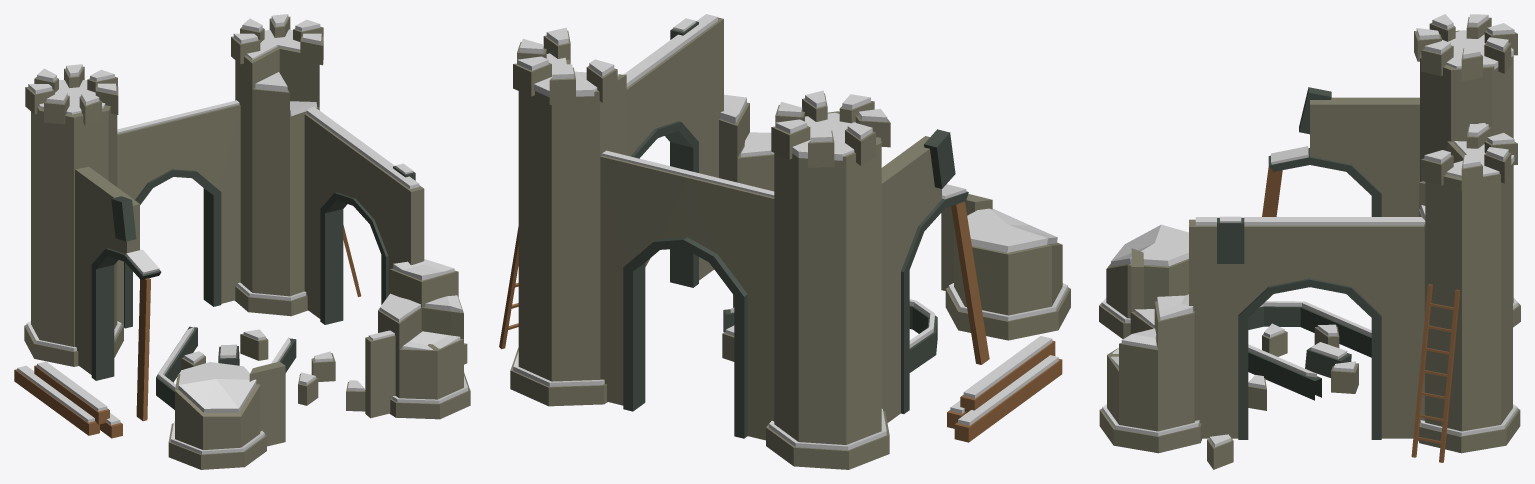
The model's file is Castle_build_snow_mat.fbx.
The picture shows the model from 3 angles, left to right: view 1: azimuth 30°, elevation 25°; view 2: azimuth 150°, elevation 25°; view 3: azimuth 270°, elevation 25°; orthographic projection. The views are drawn at different scales.
Visible parts, largest first — view 1: Castle_build_snow_mat; view 2: Castle_build_snow_mat; view 3: Castle_build_snow_mat.
Boxes of the visible parts, bbox=[...] form: Castle_build_snow_mat: bbox=[14, 14, 470, 469]; Castle_build_snow_mat: bbox=[499, 14, 1070, 469]; Castle_build_snow_mat: bbox=[1099, 14, 1520, 469].
Bounding box in the file's own units: 5.64 × 3.95 × 5.19.
